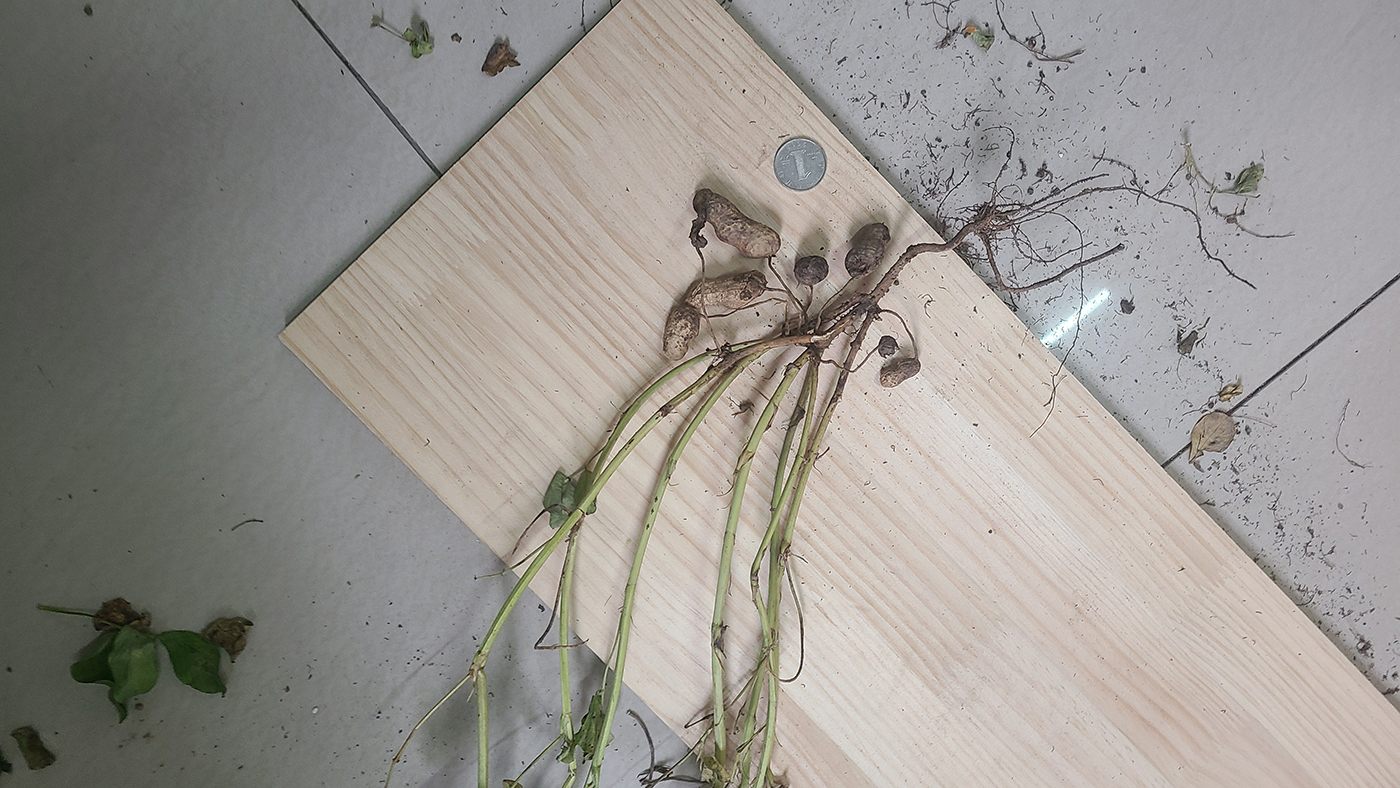h: (660, 305, 702, 362)
l: (696, 189, 783, 261), (685, 270, 768, 308), (845, 222, 893, 277), (878, 357, 923, 387), (795, 256, 831, 285), (689, 203, 707, 248), (877, 336, 895, 356)
